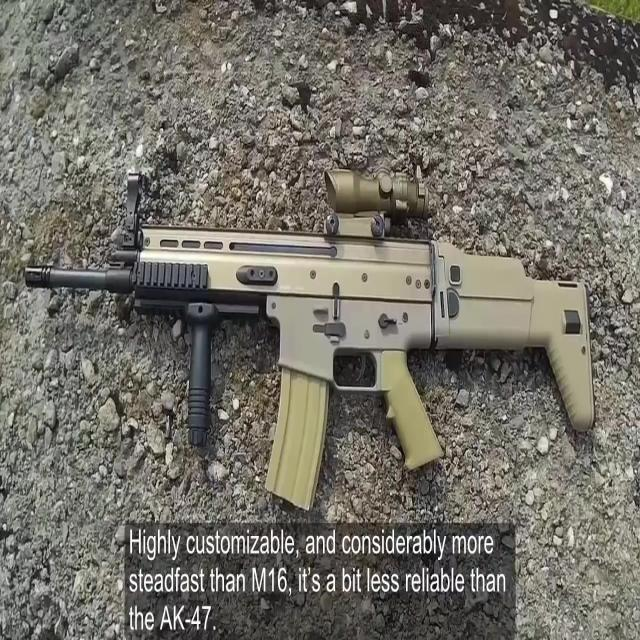Weapon: (0, 149, 617, 531)
